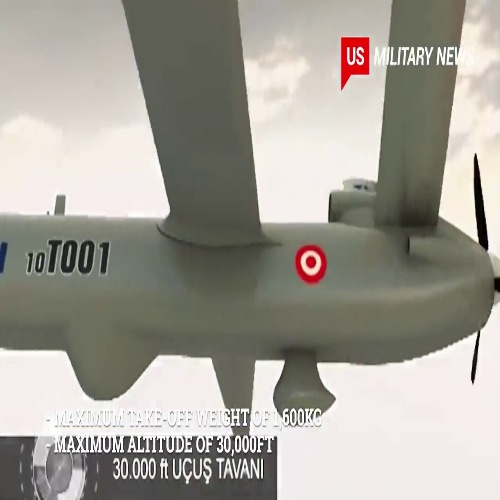uav680: (4, 3, 500, 428)
